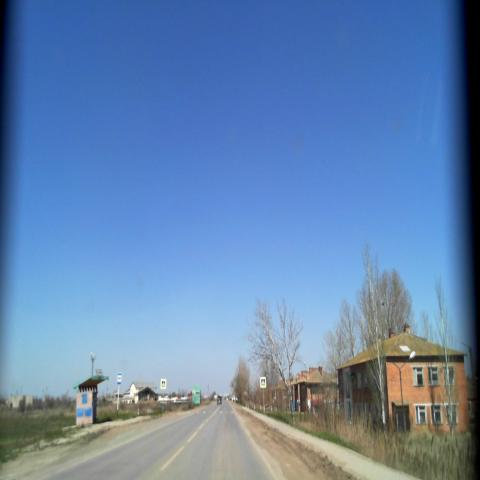5_16: (117, 371, 122, 384)
5_19_1: (160, 378, 166, 390), (260, 377, 266, 389)
